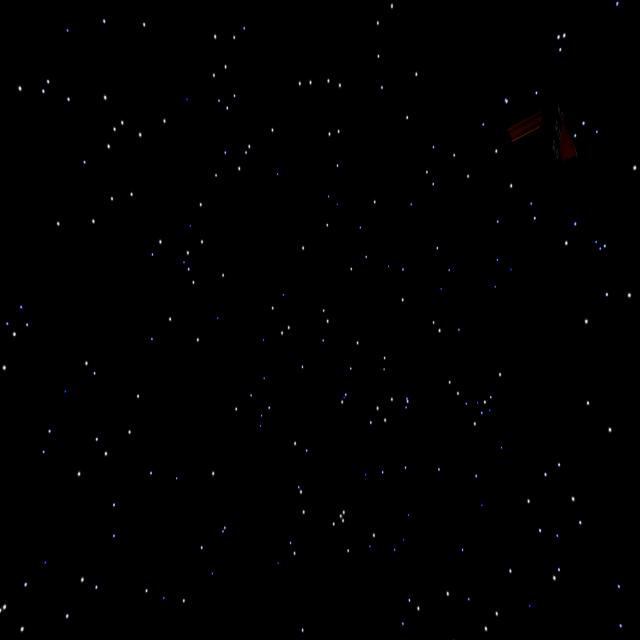satellite: (491, 67, 616, 176)
